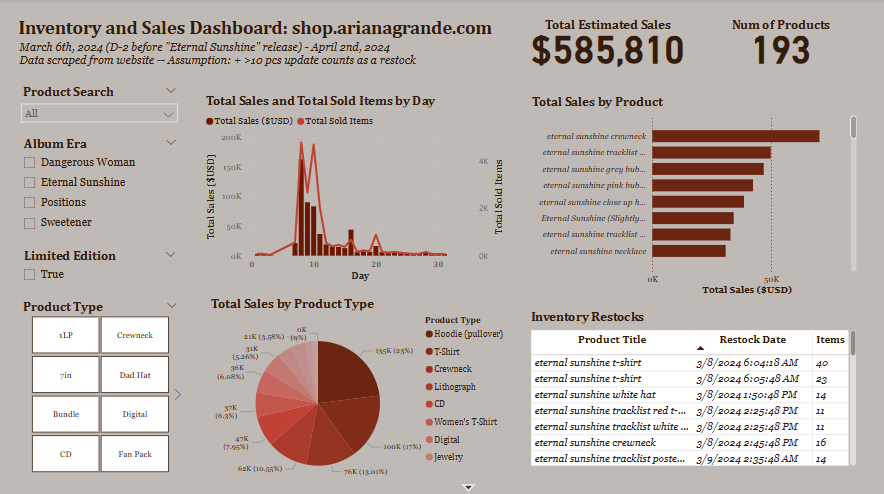

The dashboard page shown, as its layout file describes it:
{"tool":"powerbi","page":{"name":"Dashboard","canvas":[1280,720],"ordinal":0},"visuals":[{"type":"slicer","title":"Album ","fields":{"Values":["ariana_grande_inventory01_13.album_era"]},"box":[22.7,191.3,244.5,160.9],"z":0},{"type":"textbox","box":[23.4,20,705.7,44.3],"z":1000},{"type":"textbox","box":[24,54,706,50],"z":2000},{"type":"lineClusteredColumnComboChart","title":"Total Sales and Total Sold Items by Day","fields":{"Y":["Sum(ariana_grande_inventory01_13.estimated_total_sales)"],"Y2":["Sum(ariana_grande_inventory01_13.sold_items)"],"Category":["ariana_grande_inventory01_13.data_pulled_at.Variation.Date Hierarchy.Day"]},"box":[292.9,133.7,442,278],"z":3000},{"type":"barChart","title":"Total Sales by Product","fields":{"Category":["ariana_grande_inventory01_13.product_title"],"Y":["Sum(ariana_grande_inventory01_13.estimated_total_sales)"]},"box":[762,136,478,296],"z":4000},{"type":"slicer","fields":{"Values":["ariana_grande_inventory01_13.product_title"]},"box":[21.4,116.9,245.7,75.7],"z":5000},{"type":"slicer","title":"Product Type","fields":{"Values":["ariana_grande_inventory01_13.product_type"]},"box":[21.8,426.7,246.9,262],"z":6000},{"type":"pieChart","title":"Total Sales by Product Type","fields":{"Category":["ariana_grande_inventory01_13.product_type"],"Y":["Sum(ariana_grande_inventory01_13.estimated_total_sales)"]},"box":[298.9,425.7,442,290],"z":7000},{"type":"card","title":"Total Estimated Sales","fields":{"Values":["Sum(ariana_grande_inventory01_13.estimated_total_sales)"]},"box":[751.4,10,250,107.1],"z":8000},{"type":"card","title":"Num of Products","fields":{"Values":["Count(ariana_grande_inventory01_13.variant_sku)"]},"box":[1001.4,10,250,107.1],"z":9000},{"type":"tableEx","title":"Inventory Restocks","fields":{"Values":["ariana_grande_inventory01_13.product_title","ariana_grande_inventory01_13.Data Pulled at","ariana_grande_inventory01_13.quantity_diff"]},"box":[760.9,445.1,478.7,231.8],"z":10000},{"type":"slicer","fields":{"Values":["ariana_grande_inventory01_13.is_limited_edition"]},"box":[23.6,352.2,243.6,68.2],"z":11000}]}

Visuals, with their boxes in screenshot pixels (x1, y1, x2, y2), scaled from the page's 1280x720 canvas onto the 884x494 screenshot:
"Album " slicer: (left=16, top=131, right=185, bottom=242)
textbox: (left=16, top=14, right=504, bottom=44)
textbox: (left=17, top=37, right=504, bottom=71)
"Total Sales and Total Sold Items by Day" lineClusteredColumnComboChart: (left=202, top=92, right=508, bottom=282)
"Total Sales by Product" barChart: (left=526, top=93, right=856, bottom=296)
slicer - ariana_grande_inventory01_13.product_title: (left=15, top=80, right=184, bottom=132)
"Product Type" slicer: (left=15, top=293, right=186, bottom=473)
"Total Sales by Product Type" pieChart: (left=206, top=292, right=512, bottom=491)
"Total Estimated Sales" card: (left=519, top=7, right=692, bottom=80)
"Num of Products" card: (left=692, top=7, right=864, bottom=80)
"Inventory Restocks" tableEx: (left=525, top=305, right=856, bottom=464)
slicer - ariana_grande_inventory01_13.is_limited_edition: (left=16, top=242, right=185, bottom=288)
